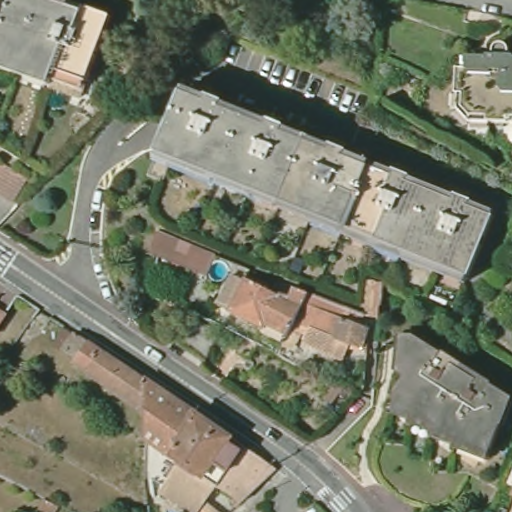pool: (204, 259, 230, 282)
